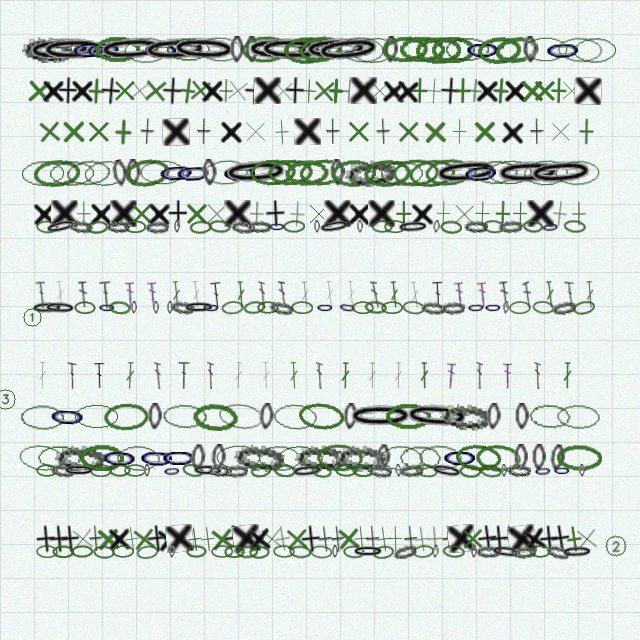chain: (314, 33, 383, 67), (432, 156, 501, 189), (527, 157, 595, 189), (97, 34, 165, 65), (222, 157, 290, 188), (403, 401, 471, 432), (26, 35, 94, 65), (141, 35, 209, 65), (494, 158, 562, 188), (170, 35, 238, 64), (302, 35, 370, 64), (40, 36, 107, 64), (245, 36, 312, 64), (258, 36, 325, 64), (347, 403, 414, 430), (344, 157, 396, 189), (216, 400, 266, 433), (123, 156, 172, 189), (233, 442, 285, 473), (493, 34, 541, 66), (408, 157, 456, 189), (298, 157, 347, 188), (424, 157, 473, 188), (297, 401, 346, 432), (64, 157, 112, 188), (17, 442, 65, 473), (440, 402, 491, 431), (350, 35, 399, 65), (32, 158, 81, 188), (297, 34, 344, 65), (363, 158, 411, 188), (277, 443, 325, 473), (454, 443, 502, 473), (476, 35, 523, 65), (82, 158, 129, 188), (475, 443, 522, 473), (55, 444, 105, 472), (336, 444, 386, 472), (196, 35, 244, 64), (241, 35, 289, 64), (202, 158, 250, 187), (486, 158, 534, 187), (192, 402, 238, 432), (338, 35, 385, 64), (381, 35, 428, 64), (249, 158, 296, 187), (267, 158, 314, 187), (392, 158, 439, 187), (472, 158, 519, 187), (522, 158, 569, 187), (161, 402, 208, 431), (316, 443, 363, 472), (417, 443, 464, 472), (22, 36, 72, 63), (295, 444, 345, 471), (556, 36, 604, 64), (103, 402, 149, 431), (272, 402, 318, 431), (527, 402, 573, 431), (283, 36, 330, 64), (48, 159, 95, 187), (554, 159, 601, 187), (555, 403, 602, 431), (378, 444, 425, 472), (123, 36, 169, 64), (415, 36, 461, 64), (20, 159, 66, 187), (284, 159, 330, 187), (331, 159, 377, 187), (379, 159, 425, 187), (19, 403, 65, 431), (115, 444, 161, 472), (257, 444, 303, 472), (556, 444, 602, 472), (522, 36, 569, 63), (73, 403, 120, 430), (215, 444, 262, 471), (572, 36, 617, 64), (398, 444, 443, 472), (94, 36, 140, 63), (165, 36, 211, 63), (399, 36, 445, 63), (444, 36, 490, 63), (139, 159, 185, 186), (385, 403, 431, 430), (36, 444, 82, 471), (431, 36, 476, 63), (79, 444, 124, 471), (461, 158, 501, 188), (70, 35, 109, 64), (84, 35, 123, 64), (157, 158, 196, 187), (48, 402, 87, 431), (174, 159, 213, 187), (100, 444, 139, 472), (142, 36, 180, 64), (544, 36, 582, 64), (221, 159, 259, 187), (138, 444, 176, 472), (464, 36, 502, 63), (160, 444, 198, 471), (441, 444, 479, 471), (44, 217, 78, 236), (430, 462, 463, 480), (318, 218, 351, 235), (291, 463, 324, 479), (490, 544, 523, 560), (392, 542, 418, 562), (111, 159, 129, 187), (549, 444, 566, 472), (551, 299, 577, 317), (545, 543, 571, 561), (397, 220, 429, 234), (31, 301, 63, 315), (44, 301, 76, 315), (190, 444, 206, 472), (375, 444, 391, 472), (561, 545, 593, 559), (183, 301, 215, 314), (63, 464, 95, 477), (192, 464, 224, 477), (352, 545, 384, 558), (572, 299, 596, 316), (181, 462, 205, 479), (523, 36, 538, 63), (126, 159, 141, 186), (202, 159, 217, 186), (330, 159, 345, 186), (259, 403, 274, 430), (343, 403, 358, 430), (486, 403, 501, 430), (211, 444, 226, 471), (269, 300, 294, 316), (512, 544, 537, 560), (230, 36, 244, 63), (245, 36, 259, 63), (384, 36, 398, 63), (148, 403, 162, 430), (515, 403, 529, 430), (514, 444, 528, 471), (532, 444, 546, 471), (68, 219, 93, 234), (498, 219, 523, 234), (170, 300, 195, 315), (50, 463, 75, 478), (399, 463, 424, 478), (310, 463, 333, 479), (479, 463, 502, 479), (136, 544, 159, 560), (372, 544, 395, 560), (208, 219, 231, 234), (482, 219, 505, 234), (563, 219, 586, 234), (108, 300, 131, 315), (221, 300, 244, 315), (243, 300, 266, 315), (364, 300, 387, 315), (402, 300, 425, 315), (532, 300, 555, 315), (273, 463, 296, 478), (415, 463, 438, 478), (412, 544, 435, 559), (442, 544, 465, 559), (145, 220, 169, 234), (231, 220, 255, 234), (421, 301, 445, 315), (441, 301, 465, 315), (224, 464, 248, 478), (368, 464, 392, 478), (522, 219, 544, 234), (250, 463, 272, 478), (189, 220, 212, 234), (106, 220, 130, 233), (247, 220, 271, 233), (464, 220, 488, 233), (208, 464, 232, 477), (507, 464, 531, 477), (476, 545, 500, 558), (36, 220, 58, 234), (86, 220, 108, 234), (440, 220, 462, 234), (459, 464, 481, 478), (93, 545, 115, 559), (236, 545, 258, 559), (289, 545, 311, 559), (310, 545, 332, 559), (343, 545, 365, 559), (249, 545, 270, 559), (124, 220, 146, 233), (283, 220, 305, 233), (371, 220, 393, 233), (384, 220, 406, 233), (74, 301, 96, 314), (257, 301, 279, 314), (291, 301, 313, 314), (352, 301, 374, 314), (381, 301, 403, 314), (509, 301, 531, 314), (36, 464, 58, 477), (90, 464, 112, 477), (109, 464, 131, 477), (124, 464, 146, 477), (335, 464, 357, 477), (352, 464, 374, 477), (36, 545, 58, 558), (52, 545, 74, 558), (71, 545, 93, 558), (112, 545, 134, 558), (211, 545, 233, 558), (273, 545, 295, 558), (529, 545, 551, 558), (338, 300, 357, 315), (186, 545, 207, 558), (224, 545, 245, 558), (541, 220, 560, 234), (163, 464, 181, 478), (534, 464, 552, 478), (268, 220, 286, 233), (98, 301, 116, 314), (202, 301, 220, 314), (316, 301, 334, 314), (467, 301, 485, 314), (484, 301, 502, 314), (553, 464, 571, 477), (433, 220, 440, 233), (395, 464, 402, 477), (432, 545, 439, 558), (174, 220, 180, 233), (314, 220, 320, 233), (357, 220, 363, 233), (131, 301, 137, 314), (153, 301, 159, 314), (167, 301, 173, 314), (503, 301, 509, 314), (144, 464, 150, 477), (501, 464, 507, 477), (579, 464, 585, 477), (169, 545, 175, 558), (332, 545, 338, 558), (471, 545, 477, 558)
double: (99, 281, 113, 309), (210, 281, 223, 309), (409, 281, 422, 309), (35, 281, 47, 308), (324, 281, 336, 308), (432, 281, 444, 308), (499, 281, 511, 308), (544, 281, 556, 308), (564, 281, 576, 308), (178, 362, 190, 389), (55, 281, 66, 308), (78, 281, 89, 308), (147, 281, 158, 308), (171, 281, 182, 308), (191, 281, 202, 308), (300, 281, 311, 308), (346, 281, 357, 308), (389, 281, 400, 308), (454, 281, 465, 308), (477, 281, 488, 308), (522, 281, 533, 308), (94, 362, 105, 389), (125, 281, 135, 308), (236, 281, 246, 308), (370, 281, 380, 308), (585, 281, 595, 308), (67, 362, 77, 389), (125, 362, 135, 389), (261, 362, 271, 389), (289, 362, 299, 389), (446, 362, 456, 389), (258, 281, 267, 308), (278, 281, 287, 308), (38, 362, 47, 389), (234, 362, 243, 389), (341, 362, 350, 389), (368, 362, 377, 389), (394, 362, 403, 389), (420, 362, 429, 389), (503, 362, 512, 389), (563, 362, 572, 389), (154, 362, 162, 389), (207, 362, 214, 389), (316, 362, 323, 389), (476, 362, 483, 389), (534, 362, 541, 389)
noise: (603, 533, 629, 559), (21, 306, 43, 328), (0, 387, 17, 411)
single: (267, 523, 298, 554), (173, 76, 203, 106), (117, 524, 147, 554), (129, 524, 159, 554), (180, 524, 210, 554), (193, 524, 223, 554), (207, 524, 237, 554), (369, 524, 399, 554), (407, 524, 437, 554), (507, 524, 537, 554), (559, 524, 589, 554), (520, 523, 549, 554), (125, 76, 154, 105), (141, 76, 170, 105), (186, 76, 215, 105), (223, 76, 252, 105), (460, 76, 489, 105), (35, 117, 64, 146), (545, 199, 574, 228), (68, 524, 97, 553), (165, 524, 194, 553), (232, 524, 261, 553), (257, 524, 286, 553), (334, 524, 363, 553), (347, 524, 376, 553), (420, 524, 449, 553), (447, 524, 476, 553), (572, 524, 601, 553), (155, 524, 183, 554), (25, 77, 53, 105), (82, 77, 110, 105), (269, 77, 297, 105), (295, 77, 323, 105), (310, 77, 338, 105), (322, 77, 350, 105), (335, 77, 363, 105), (420, 77, 448, 105), (487, 77, 515, 105), (518, 77, 546, 105), (574, 77, 602, 105), (109, 118, 137, 146), (162, 118, 190, 146), (268, 118, 296, 146), (421, 118, 449, 146), (283, 200, 311, 228), (450, 200, 478, 228), (94, 525, 122, 553), (283, 525, 311, 553), (246, 524, 273, 553), (111, 77, 138, 104), (212, 77, 239, 104), (254, 77, 281, 104), (350, 77, 377, 104), (366, 77, 393, 104), (406, 77, 433, 104), (449, 77, 476, 104), (531, 77, 558, 104), (545, 77, 572, 104), (558, 77, 585, 104), (60, 118, 87, 145), (85, 118, 112, 145), (242, 118, 269, 145), (294, 118, 321, 145), (345, 118, 372, 145), (395, 118, 422, 145), (446, 118, 473, 145), (471, 118, 498, 145), (547, 118, 574, 145), (573, 118, 600, 145), (51, 200, 78, 227), (70, 200, 97, 227), (110, 200, 137, 227), (128, 200, 155, 227), (183, 200, 210, 227), (203, 200, 230, 227), (224, 200, 251, 227), (243, 200, 270, 227), (305, 200, 332, 227), (324, 200, 351, 227), (368, 200, 395, 227), (390, 200, 417, 227), (430, 200, 457, 227), (469, 200, 496, 227), (489, 200, 516, 227), (507, 200, 534, 227), (527, 200, 554, 227), (565, 200, 592, 227), (382, 525, 409, 552), (459, 525, 486, 552), (381, 77, 407, 105), (395, 77, 421, 105), (500, 118, 526, 146), (475, 524, 499, 553), (548, 524, 572, 553), (41, 77, 66, 104), (70, 77, 95, 104), (200, 77, 225, 104), (475, 77, 500, 104), (503, 77, 528, 104), (219, 118, 244, 145), (32, 200, 57, 227), (89, 200, 114, 227), (147, 200, 172, 227), (347, 200, 372, 227), (410, 200, 435, 227), (107, 525, 132, 552), (145, 524, 168, 553), (222, 524, 245, 553), (99, 77, 122, 105), (34, 525, 57, 553), (47, 525, 70, 553), (58, 525, 81, 553), (299, 525, 322, 553), (487, 525, 510, 553), (537, 525, 560, 553), (161, 77, 183, 105), (243, 77, 265, 105), (439, 77, 461, 105), (264, 200, 286, 227), (57, 77, 78, 104), (284, 77, 305, 104), (167, 200, 188, 227), (317, 525, 334, 553), (330, 525, 346, 553), (365, 525, 381, 553), (403, 525, 419, 553), (441, 525, 457, 553), (88, 525, 104, 552), (502, 525, 518, 552), (140, 118, 155, 145), (376, 118, 391, 145), (197, 118, 211, 145), (326, 118, 340, 145), (530, 118, 544, 145)
